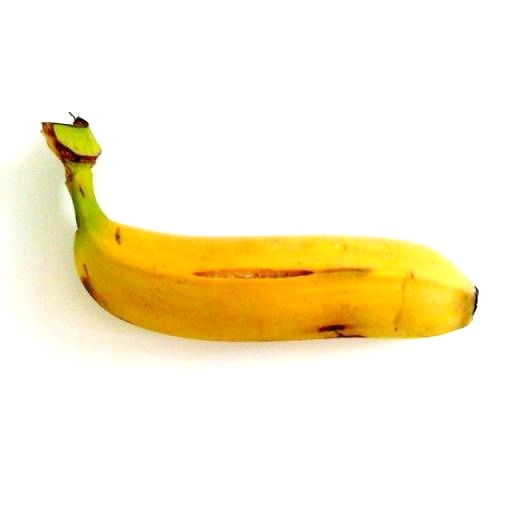fruit: (42, 118, 476, 340)
